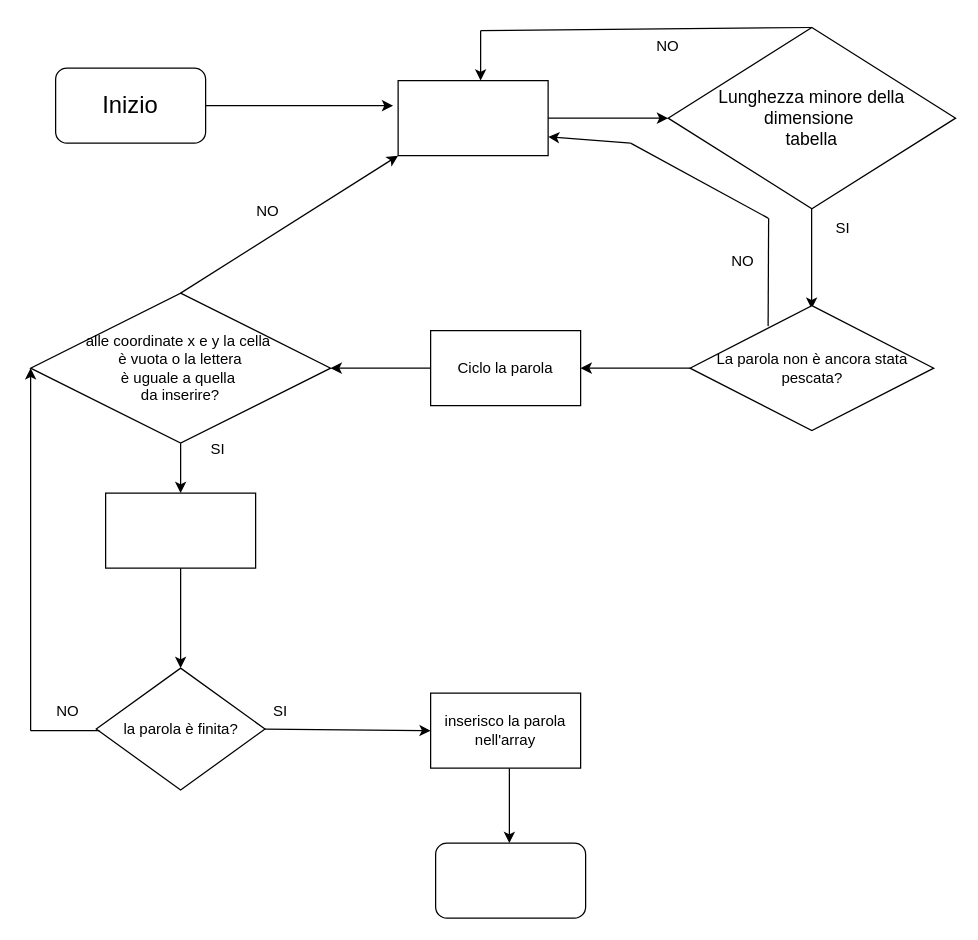
The diagram is 978 pixels wide and 940 high, and some of its shapes have lost their labels. Each missing label, with the box of its shape:
Fine: (434, 842, 586, 918)
Incremento X o Y a dipendenza della direzione: (104, 492, 256, 568)
Leggo parola pescata: (397, 79, 548, 156)
